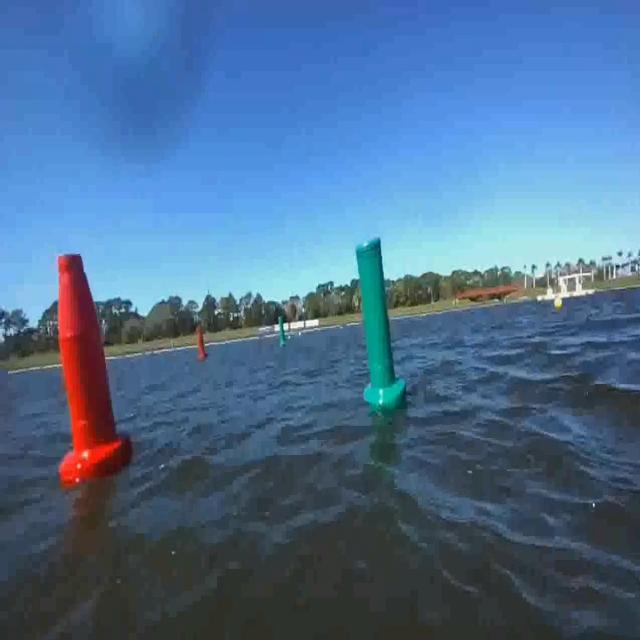green-column-buoy: (356, 234, 406, 408), (279, 316, 287, 346)
red-column-buoy: (55, 251, 131, 481), (197, 328, 209, 362)
yellow-buoy: (556, 298, 564, 313)
